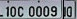character: (49, 4, 57, 17), (34, 5, 42, 17), (42, 4, 49, 17), (27, 5, 34, 17), (9, 6, 16, 17), (16, 5, 23, 16), (65, 6, 72, 17), (5, 5, 9, 17)
